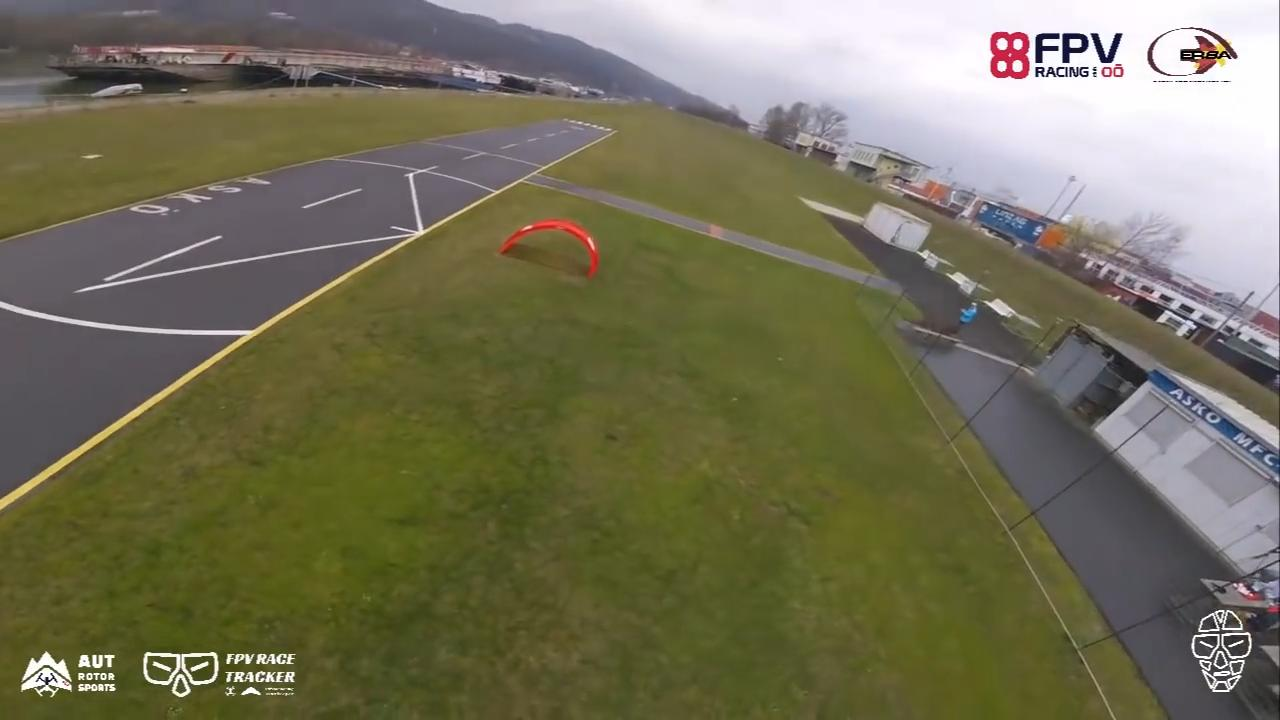gate: (502, 217, 600, 280)
